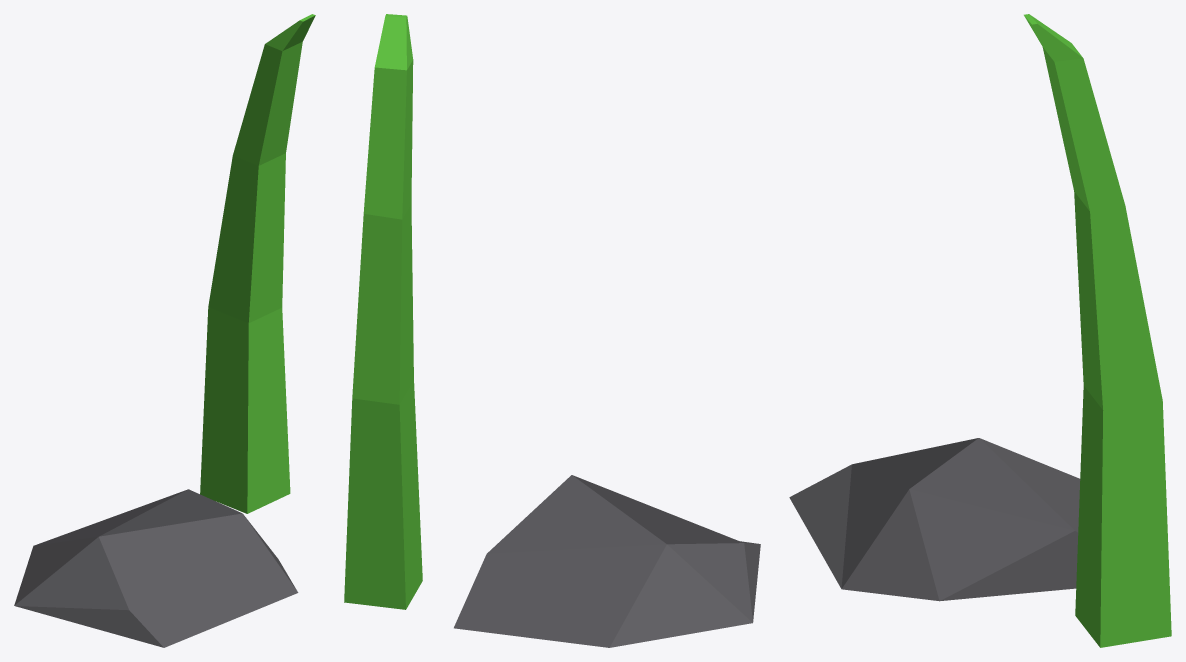
File: grass_5.fbx
3 renders of one model, left to right at view 1: azimuth 30°, elevation 25°; view 2: azimuth 150°, elevation 25°; view 3: azimuth 270°, elevation 25°, orthographic. The views are drawn at different scales.
Visible parts, largest first — view 1: grass_5; view 2: grass_5; view 3: grass_5.
Boxes of the visible parts, x1,y1,x2,y2 form: grass_5: [14, 14, 315, 647]; grass_5: [344, 14, 760, 647]; grass_5: [789, 14, 1171, 647].
Bounding box in the file's own units: 63.53 × 94.46 × 52.34.
